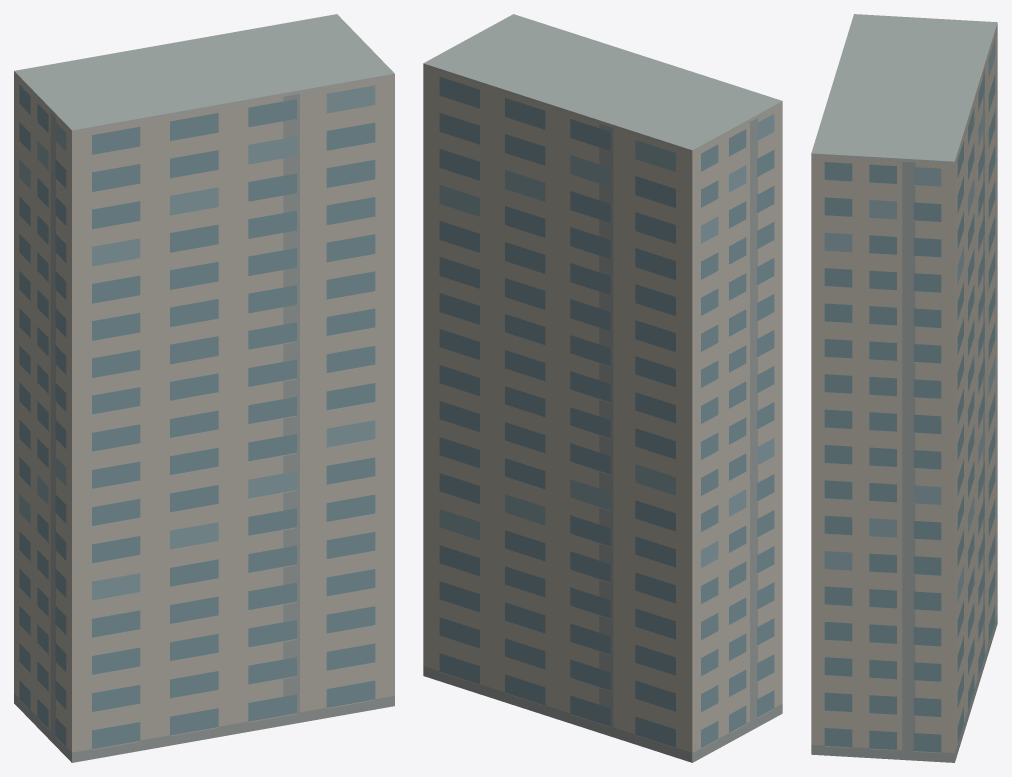
Rendered from residential-89e7c680-1db7-4c29-a631-01326b80caa5.glb.
The picture shows the model from 3 angles, left to right: view 1: azimuth 30°, elevation 25°; view 2: azimuth 150°, elevation 25°; view 3: azimuth 270°, elevation 25°; orthographic projection. The views are drawn at different scales.
Parts seen in each view (by area): view 1: residential-89e7c680-1db7-4c29-a631-01326b80caa5.tmp; view 2: residential-89e7c680-1db7-4c29-a631-01326b80caa5.tmp; view 3: residential-89e7c680-1db7-4c29-a631-01326b80caa5.tmp.
Boxes of the visible parts, x1,y1,x2,y2 form: residential-89e7c680-1db7-4c29-a631-01326b80caa5.tmp: (14, 14, 394, 762); residential-89e7c680-1db7-4c29-a631-01326b80caa5.tmp: (423, 14, 782, 762); residential-89e7c680-1db7-4c29-a631-01326b80caa5.tmp: (811, 14, 997, 762).
Size of the model in its own units: 24.23 by 46 by 12.94.
